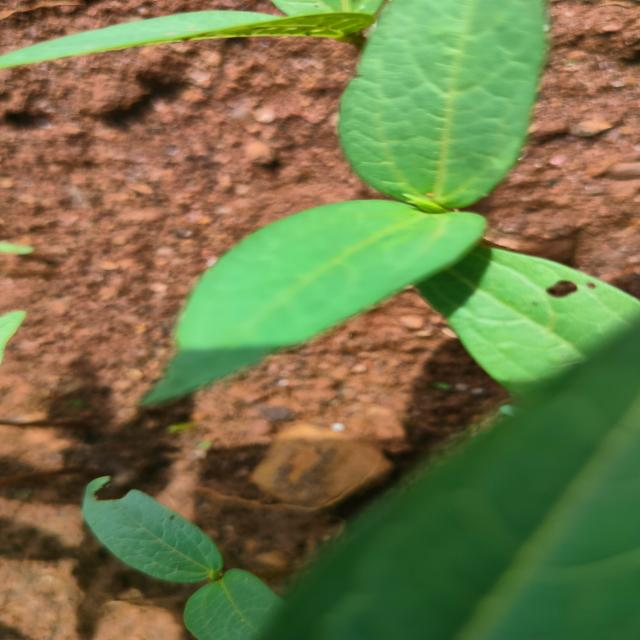Black gram_healthy: (267, 290, 640, 640), (156, 197, 505, 406), (348, 0, 547, 206)
